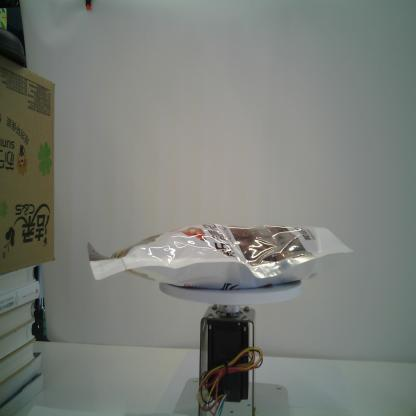Dried Food: (86, 220, 354, 291)
